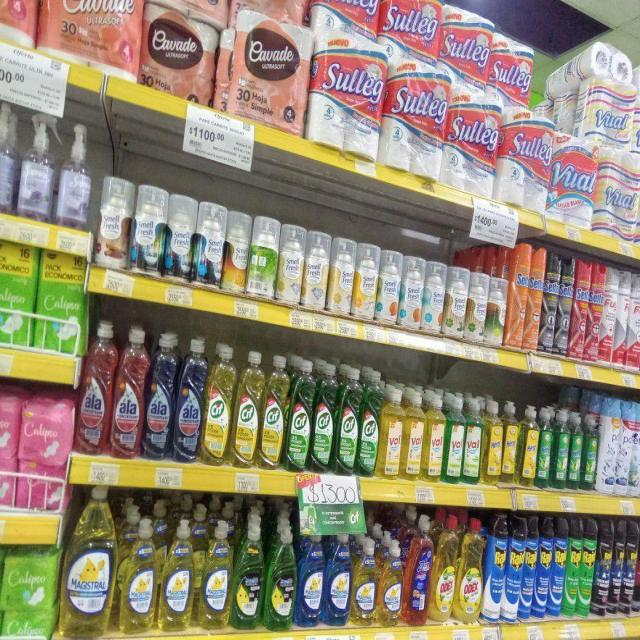ala_conc_azul: (146, 331, 174, 462), (176, 336, 204, 464)
ala_conc_rojo: (78, 319, 112, 457), (112, 325, 144, 461)
cif_conc_bot_amarilla: (205, 342, 233, 467), (234, 349, 261, 469), (262, 353, 286, 470)
cif_conc_botella_verde: (288, 358, 312, 472), (313, 361, 336, 473), (337, 364, 359, 476), (360, 368, 380, 477)
magistral_con_amarillo: (63, 488, 114, 638), (118, 517, 158, 634), (161, 518, 196, 632), (201, 519, 232, 630), (352, 538, 378, 628), (380, 538, 403, 628)
magistral_con_azul: (298, 532, 324, 628), (326, 533, 351, 626)
